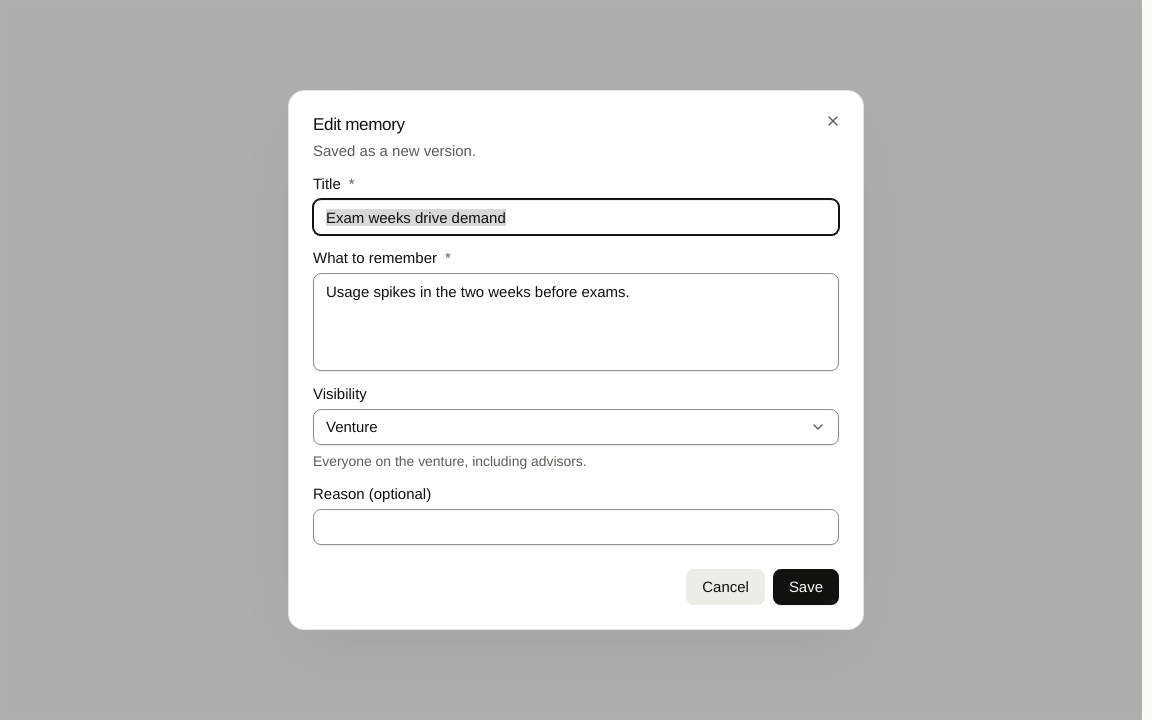
CorrectMemoryDialog › saving nothing changes nothing: no hidden approve of an older suggestion
Click the button "Save".
click(806, 587)  # box [773, 569, 839, 605]
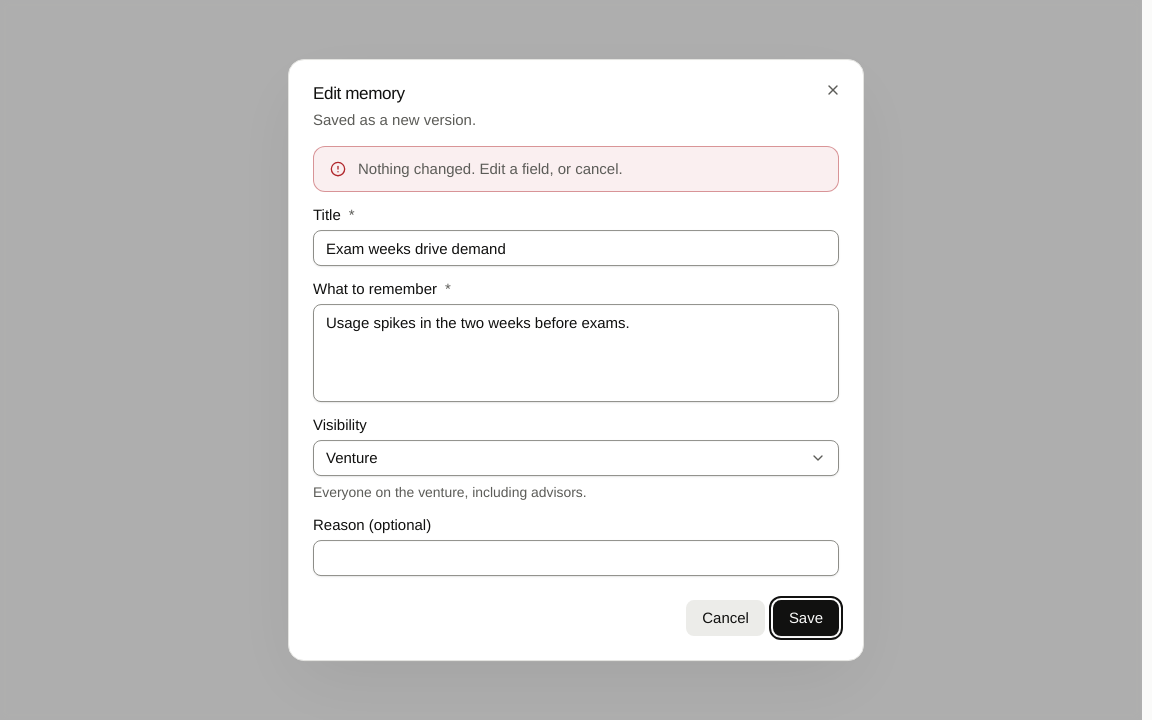
Now the message reads "Nothing changed. Edit a field, or cancel.", box [358, 160, 623, 177]
